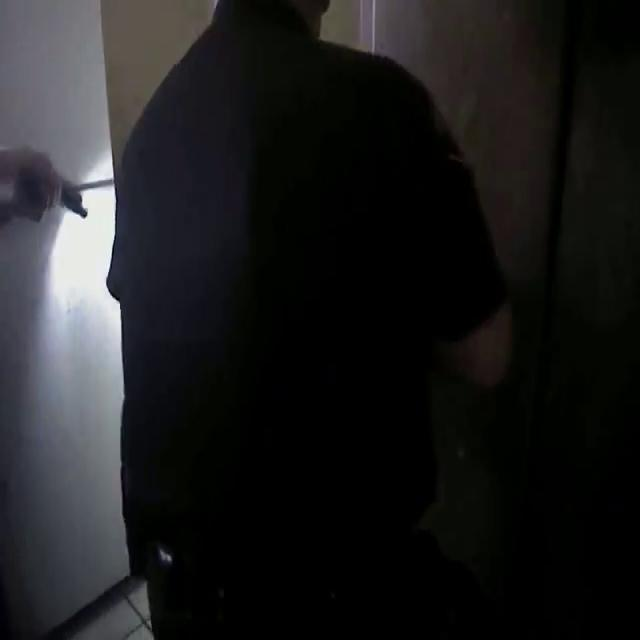gun: (0, 139, 99, 259)
